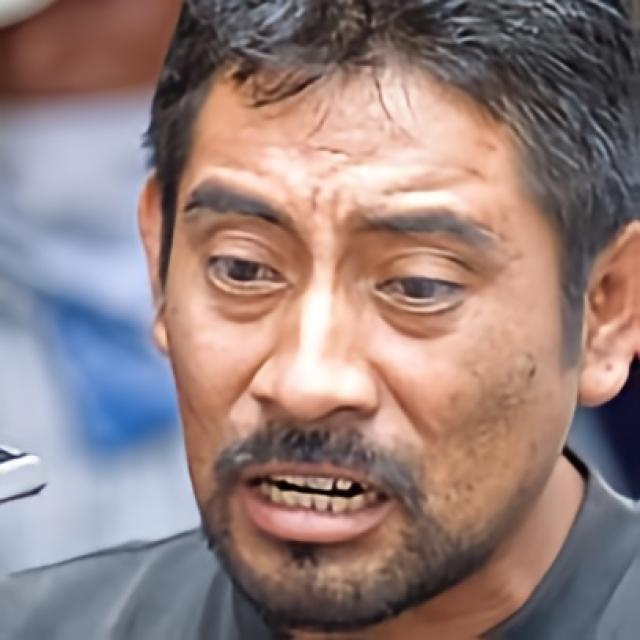fear: (168, 75, 571, 622)
